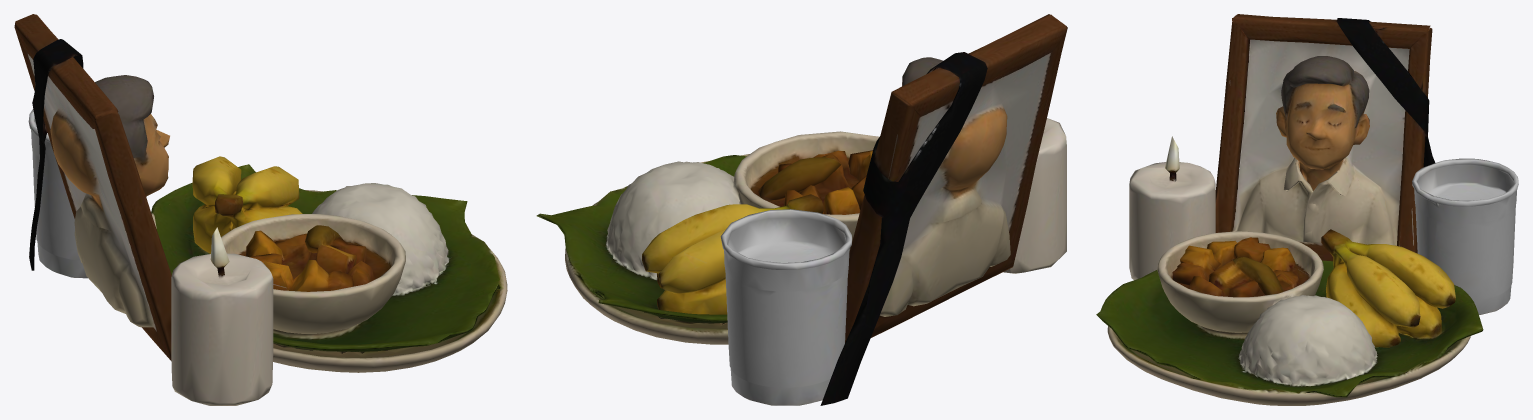
File: Alay-512(10k).glb
The picture shows the model from 3 angles, left to right: view 1: azimuth 30°, elevation 25°; view 2: azimuth 150°, elevation 25°; view 3: azimuth 270°, elevation 25°; orthographic projection. The views are drawn at different scales.
Parts seen in each view (by area): view 1: tripo_node_ed69f746-39dd-4491-8931-aa91e533a5e9; view 2: tripo_node_ed69f746-39dd-4491-8931-aa91e533a5e9; view 3: tripo_node_ed69f746-39dd-4491-8931-aa91e533a5e9.
Part boxes in pixels (<box>): tripo_node_ed69f746-39dd-4491-8931-aa91e533a5e9: <box>14,14,507,405</box>; tripo_node_ed69f746-39dd-4491-8931-aa91e533a5e9: <box>536,14,1067,405</box>; tripo_node_ed69f746-39dd-4491-8931-aa91e533a5e9: <box>1096,14,1518,405</box>.
Bounding box in the file's own units: 0.9832 × 0.6074 × 0.9701.
Materials: 1 (1 with a texture image).
